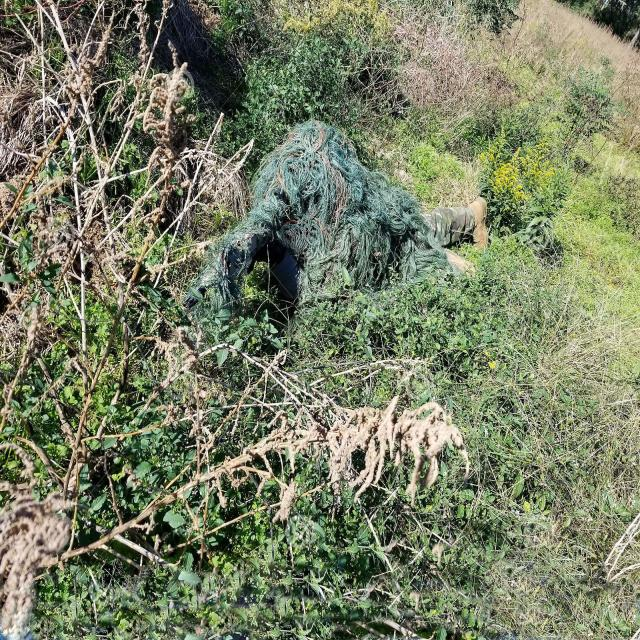Camouflage: (185, 121, 485, 309)
